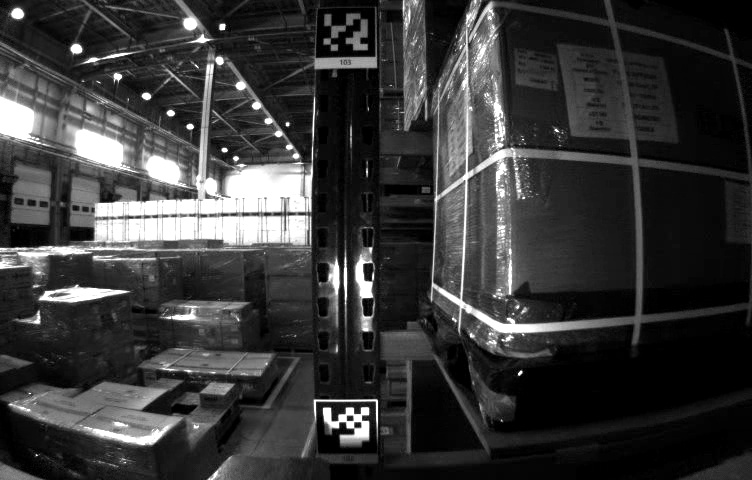True Barcode: (514, 42, 559, 98)
